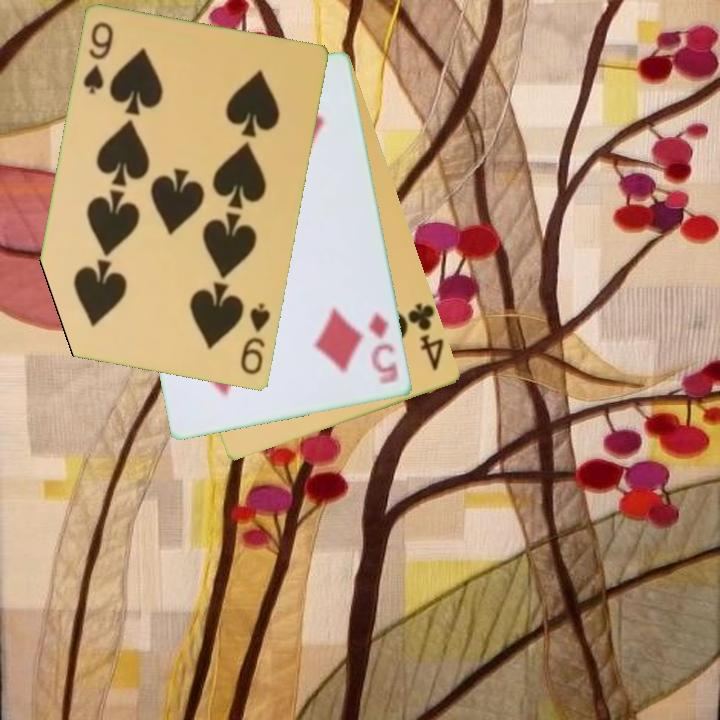4c: (404, 299, 448, 374)
5d: (366, 308, 402, 388)
9s: (80, 19, 117, 98), (237, 300, 274, 378)
